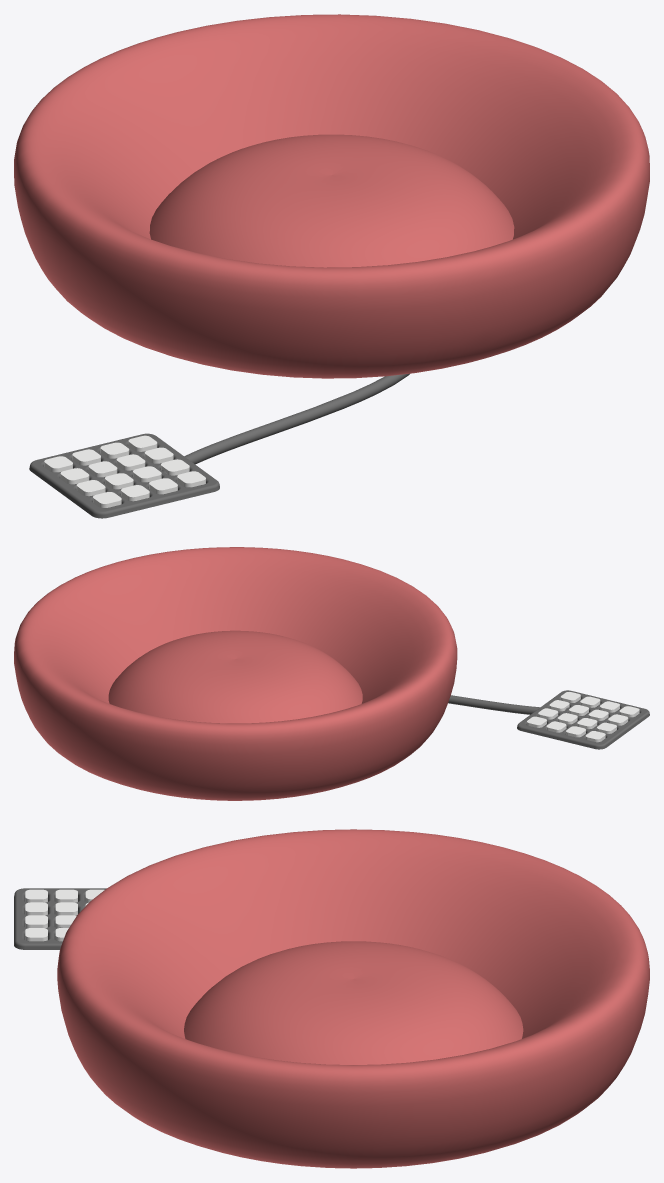
Rendered from object-project-cat-bed.glb.
The picture shows the model from 3 angles, top to bottom: view 1: azimuth 30°, elevation 25°; view 2: azimuth 150°, elevation 25°; view 3: azimuth 270°, elevation 25°; orthographic projection. The views are drawn at different scales.
Visible parts, largest first — view 1: Body2, Body1, Body4, Body3; view 2: Body2, Body1, Body4, Body3; view 3: Body2, Body1, Body4.
Boxes of the visible parts, x1,y1,x2,y2 form: Body2: (14, 14, 649, 378); Body1: (149, 134, 514, 267); Body4: (29, 433, 219, 518); Body3: (161, 373, 409, 478); Body2: (14, 547, 457, 800); Body1: (108, 630, 362, 723); Body4: (517, 690, 649, 749); Body3: (448, 695, 569, 714); Body2: (57, 829, 649, 1168); Body1: (184, 941, 523, 1064); Body4: (14, 888, 106, 949).
Size of the model in its own units: 1.07 by 0.2186 by 0.9163.
